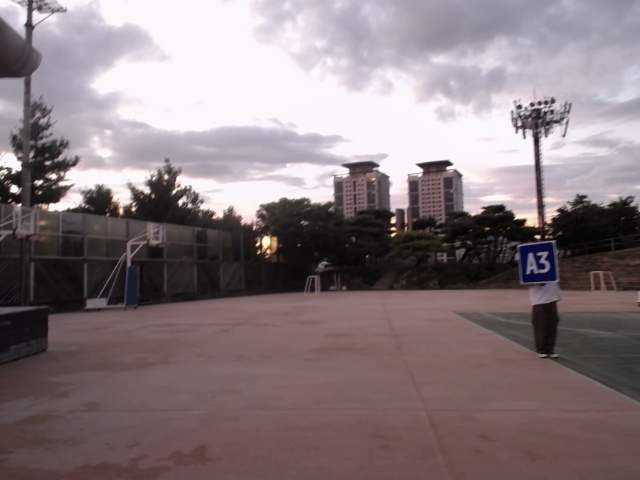delivery_a3: (517, 243, 558, 284)
